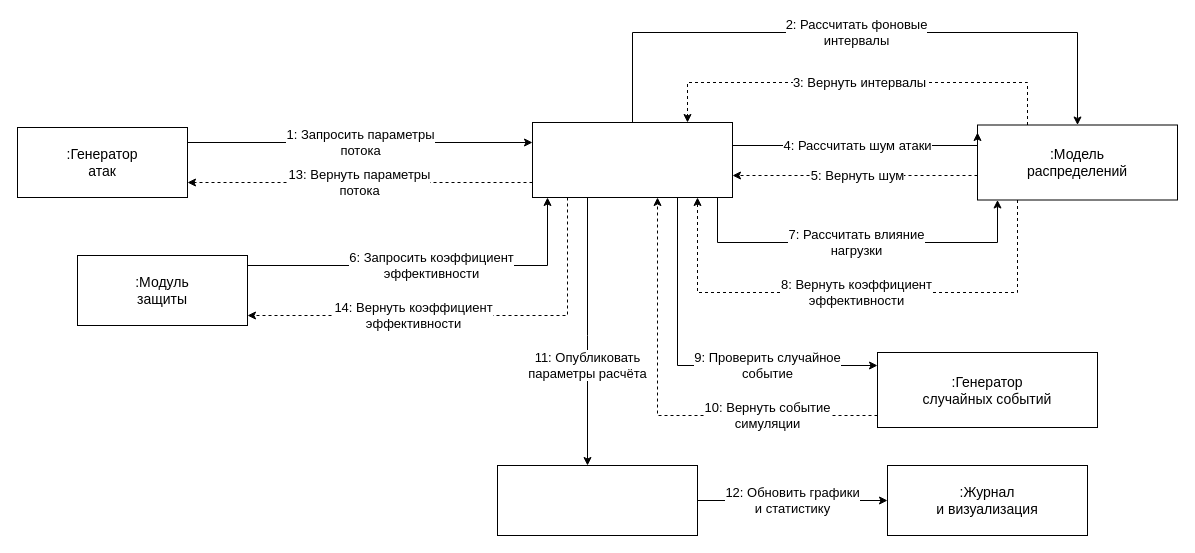
Some shapes in this 1195 by 553 pixel diagram are drawn without their labels. Each missing label, with the box of its shape:
:Стохастическое ядро: (532, 122, 732, 198)
:Шина событий: (496, 464, 698, 536)
